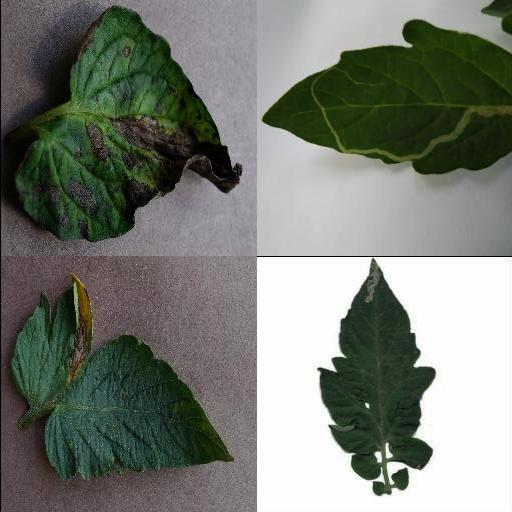Early Blight: (11, 10, 241, 245), (10, 270, 232, 484)
Leaf Miner: (261, 17, 512, 177), (317, 257, 439, 456)
